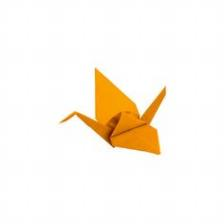orange: (62, 69, 166, 154)
